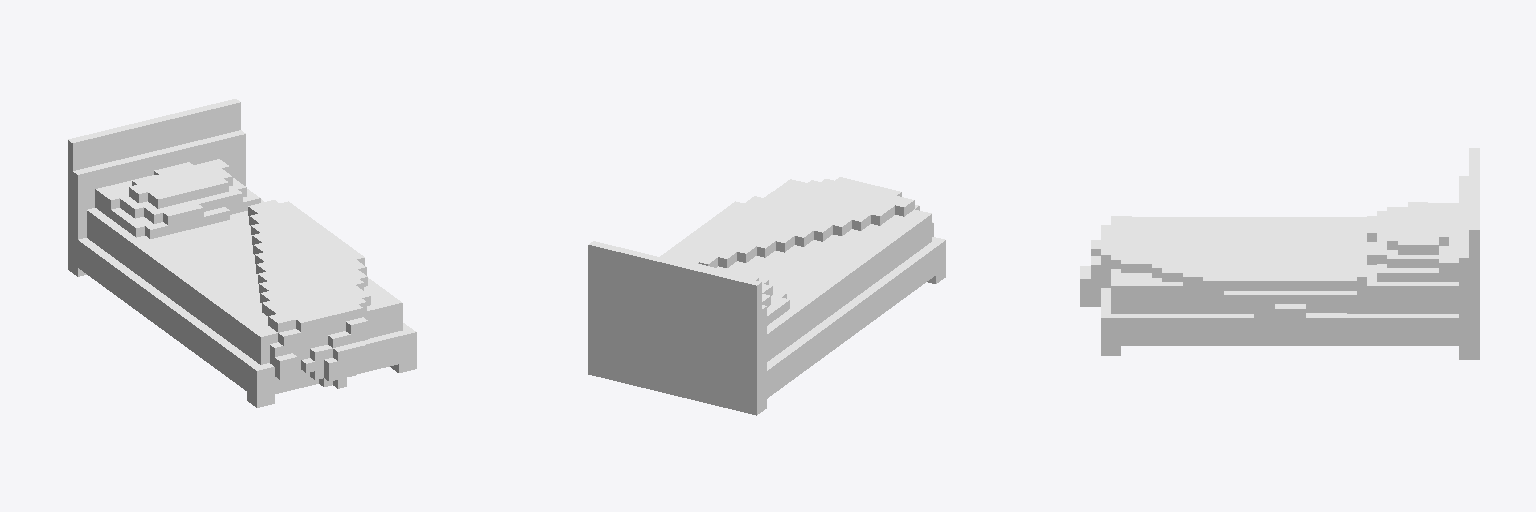
File: bed02.obj
3 views of the same model, side by side, from view 1: azimuth 30°, elevation 25°; view 2: azimuth 150°, elevation 25°; view 3: azimuth 270°, elevation 25° (orthographic).
Size of the model in its own units: 20 by 14 by 39.